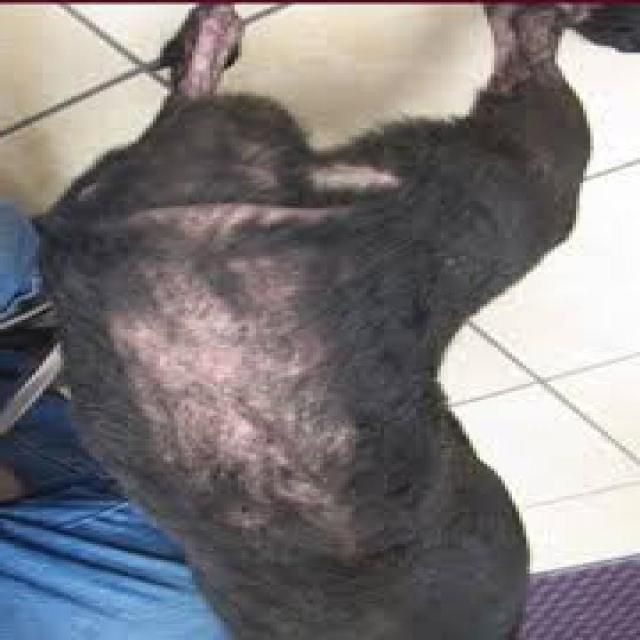allergic dermatitis: (119, 246, 363, 552)
